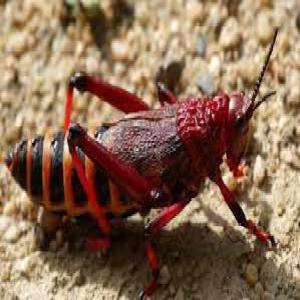locust: (1, 50, 264, 223)
